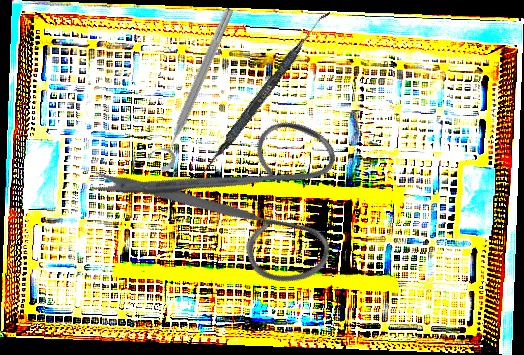Fixation Ring: (143, 1, 239, 175)
Iris Scissors: (79, 54, 386, 355)
Spatula Surgical: (198, 5, 331, 181)
